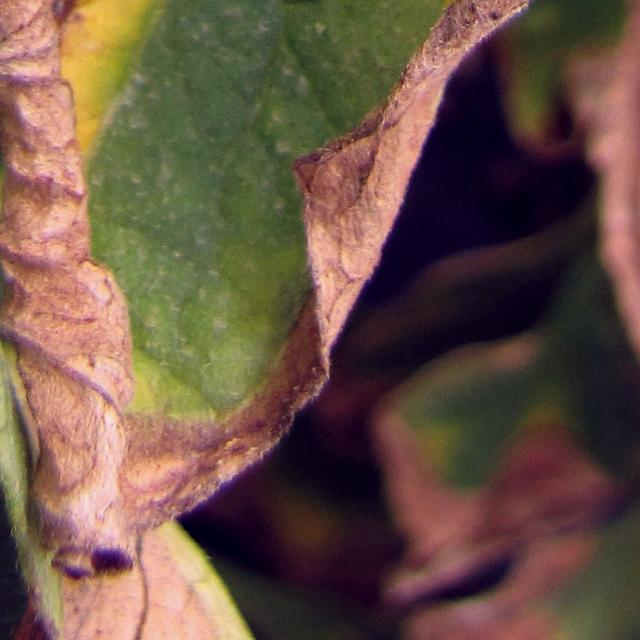Tomato leaf bacterial spot: (0, 0, 640, 607)
